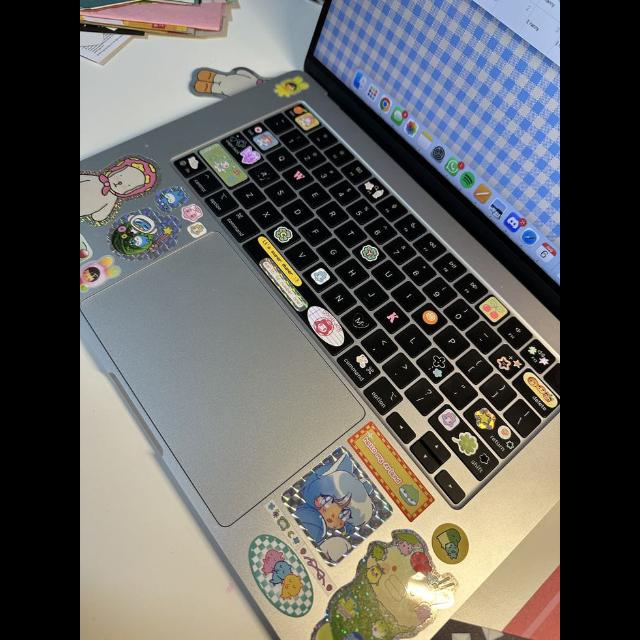laptop: (88, 26, 560, 618)
